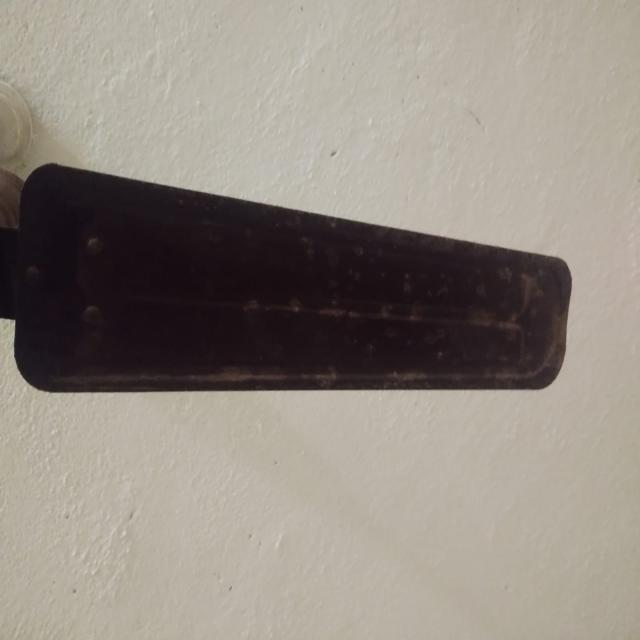fan_off: (2, 160, 571, 394)
